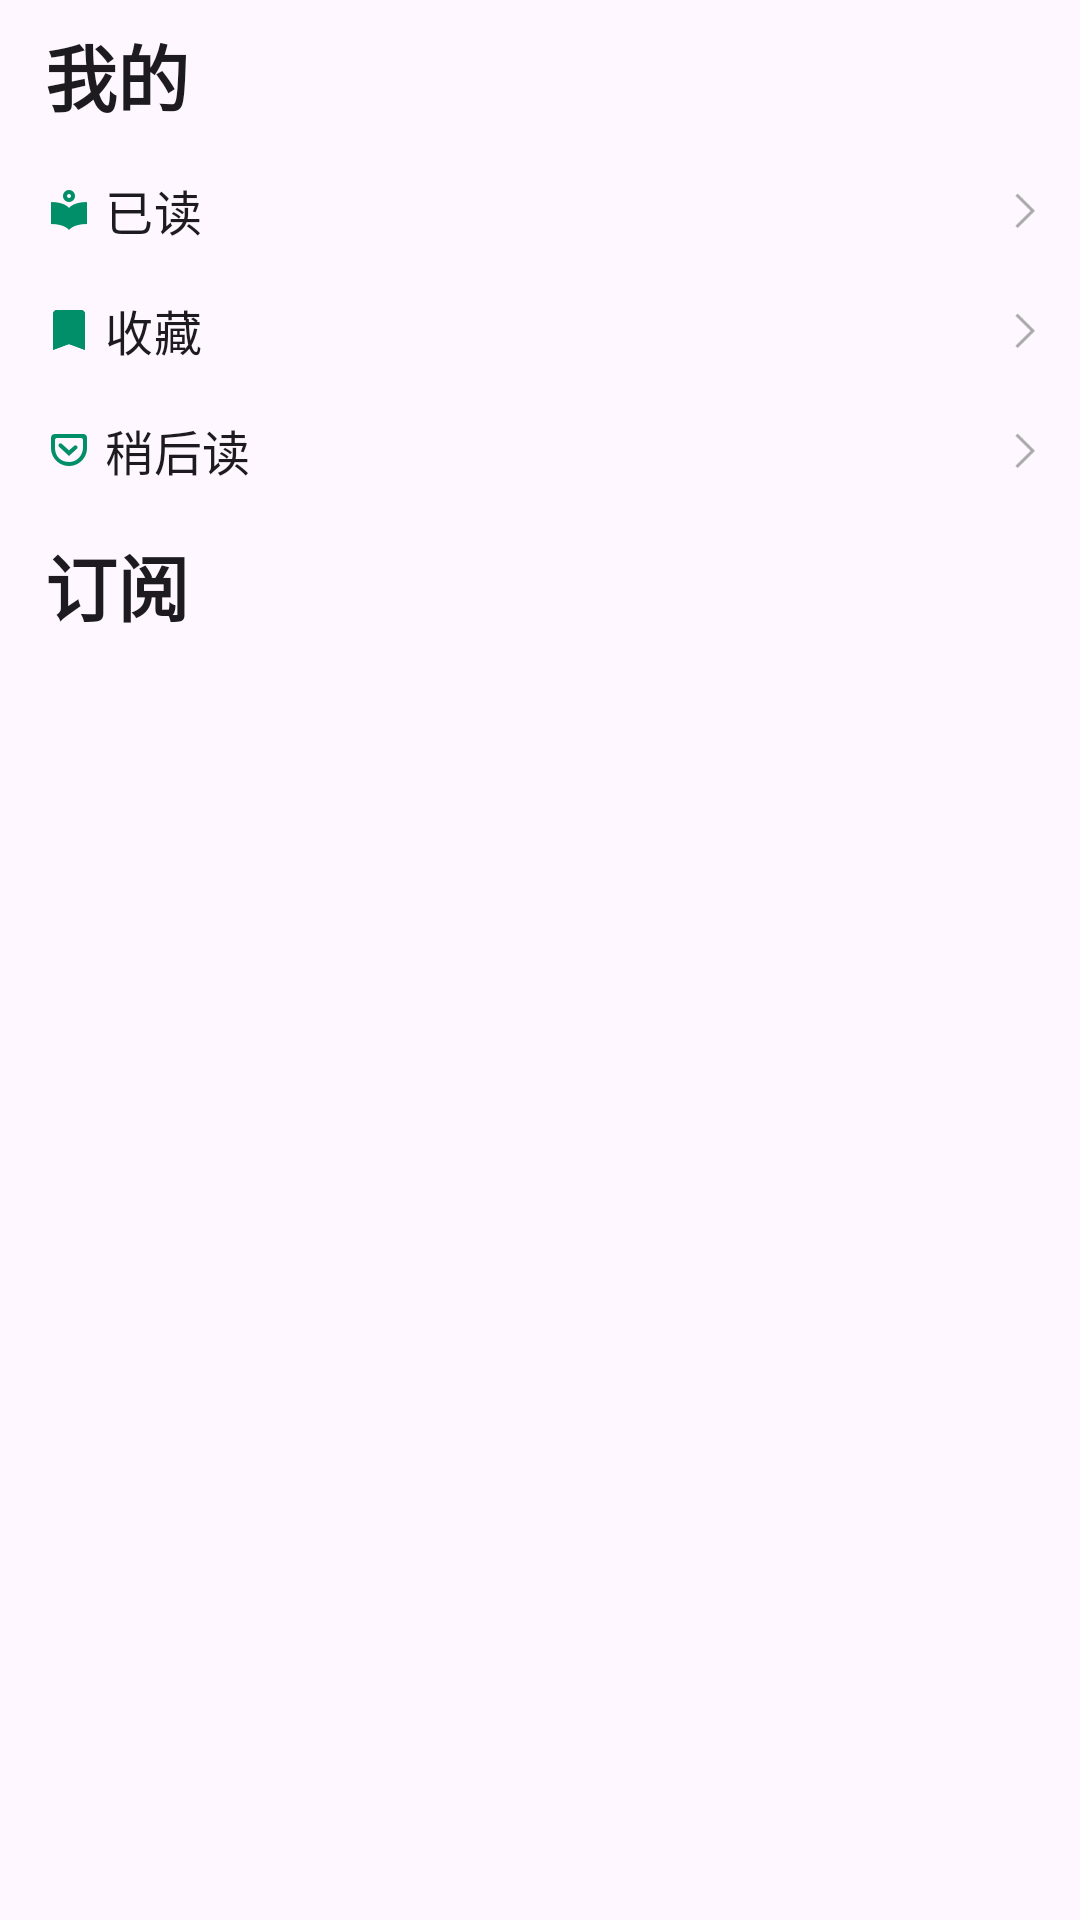

Where icons sit on this 1080*1920 app screen, as [x1,y1,x2,y2]:
more: [1016,194,1035,228], [1016,314,1035,348], [1016,434,1035,468]
